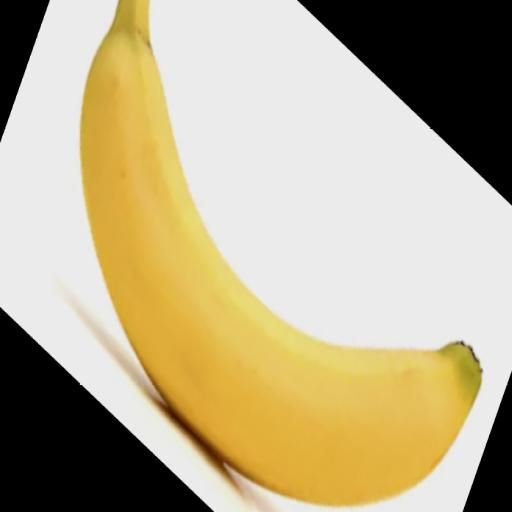banana-ripe: (0, 0, 507, 512)
